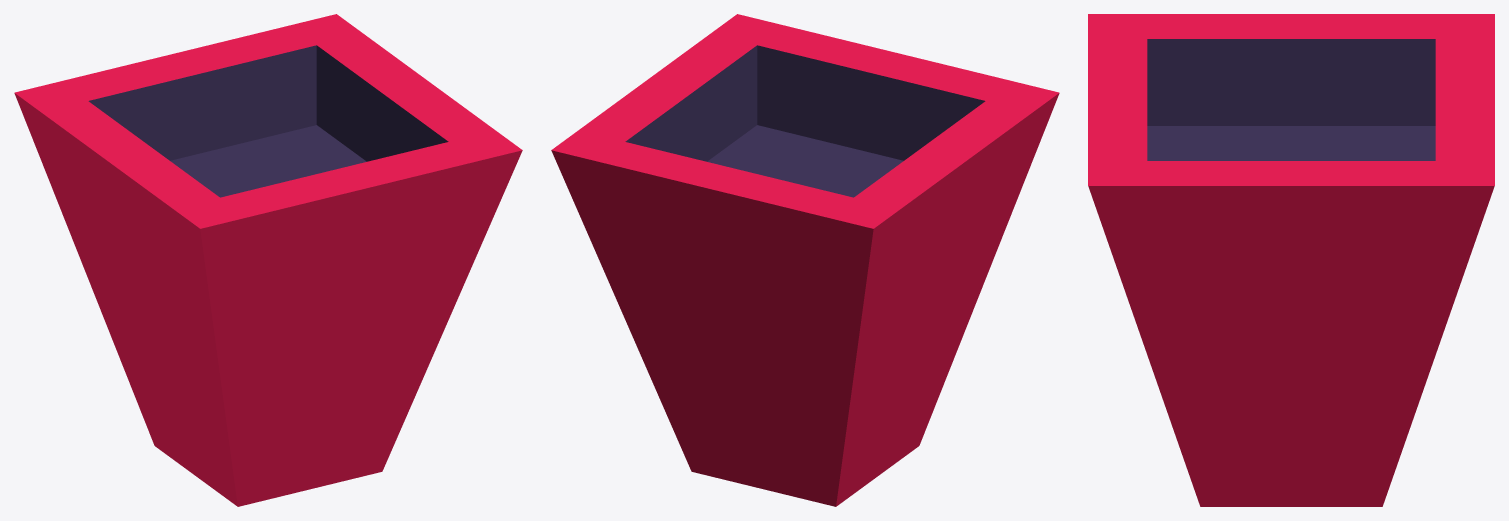
File: vaso02.obj
The picture shows the model from 3 angles, left to right: view 1: azimuth 30°, elevation 25°; view 2: azimuth 150°, elevation 25°; view 3: azimuth 270°, elevation 25°; orthographic projection. The views are drawn at different scales.
Parts seen in each view (by area): view 1: Cube; view 2: Cube; view 3: Cube.
Boxes of the visible parts, x1=… form: Cube: x1=14, y1=14, x2=522, y2=506; Cube: x1=551, y1=14, x2=1059, y2=506; Cube: x1=1088, y1=14, x2=1494, y2=506.
Bounding box in the file's own units: 1.62 × 1.62 × 1.62.
